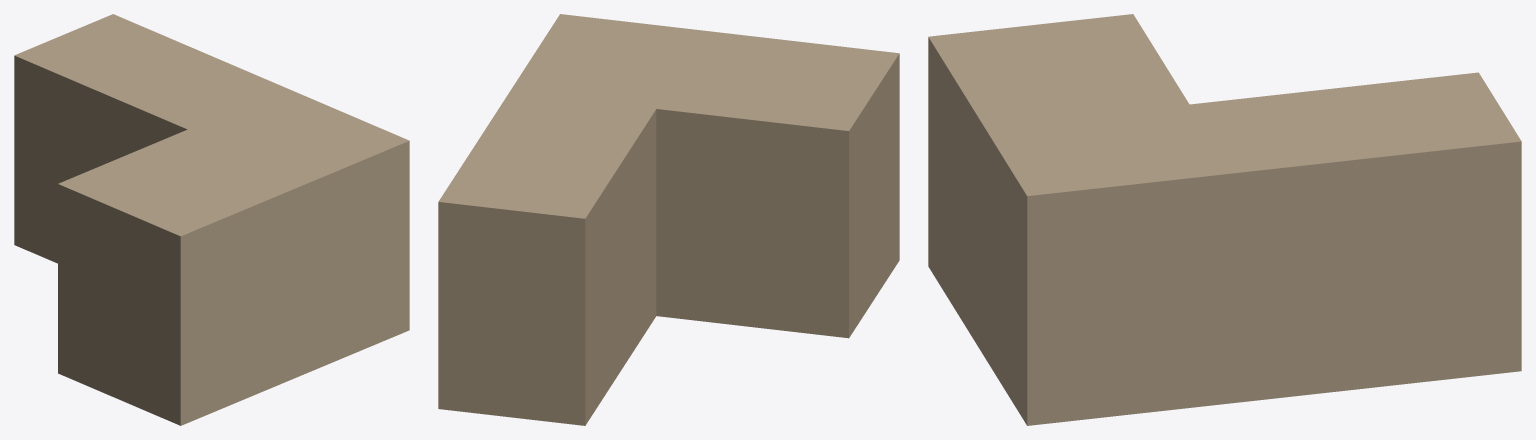
The model's file is bld_106456551.dae.
The picture shows the model from 3 angles, left to right: view 1: azimuth 30°, elevation 25°; view 2: azimuth 150°, elevation 25°; view 3: azimuth 270°, elevation 25°; orthographic projection. The views are drawn at different scales.
Parts seen in each view (by area): view 1: bld_106456551; view 2: bld_106456551; view 3: bld_106456551.
Boxes of the visible parts, box(x1,y1,x2,y2) form: bld_106456551: box(14, 14, 409, 425); bld_106456551: box(438, 14, 899, 425); bld_106456551: box(928, 14, 1521, 425).
Bounding box in the file's own units: 13.61 × 18.73 × 8.
